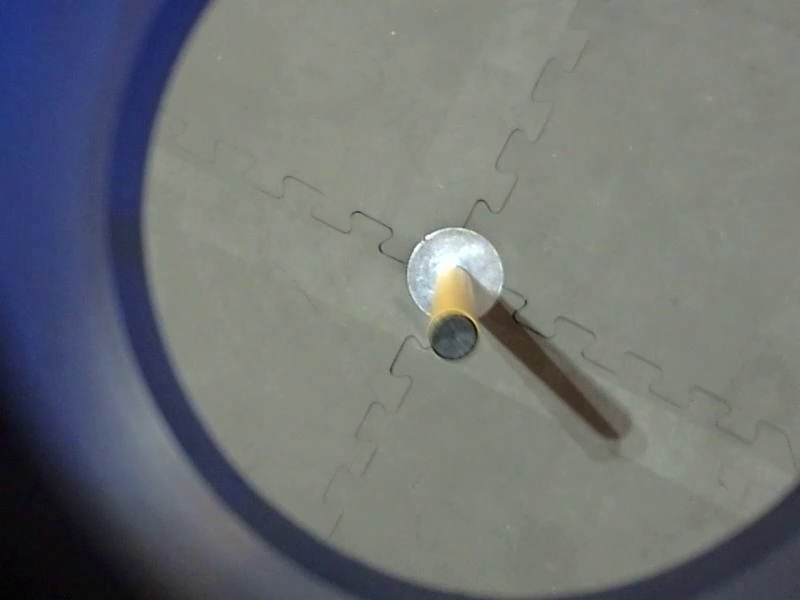tip: (140, 231, 241, 331)
